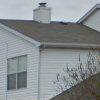Chimney: (28, 1, 63, 26)
